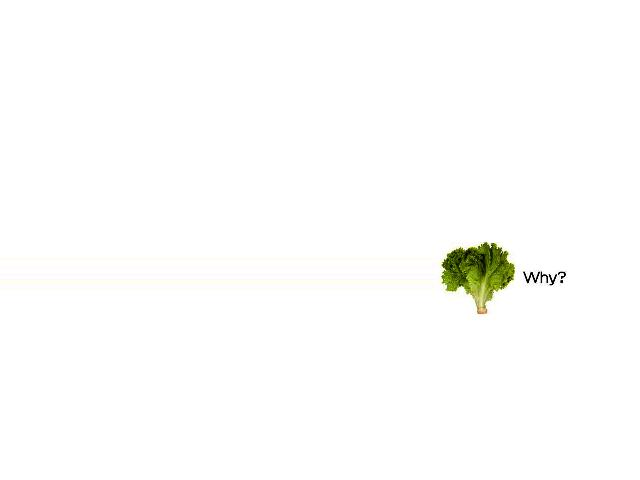lettuce: (439, 242, 521, 315)
